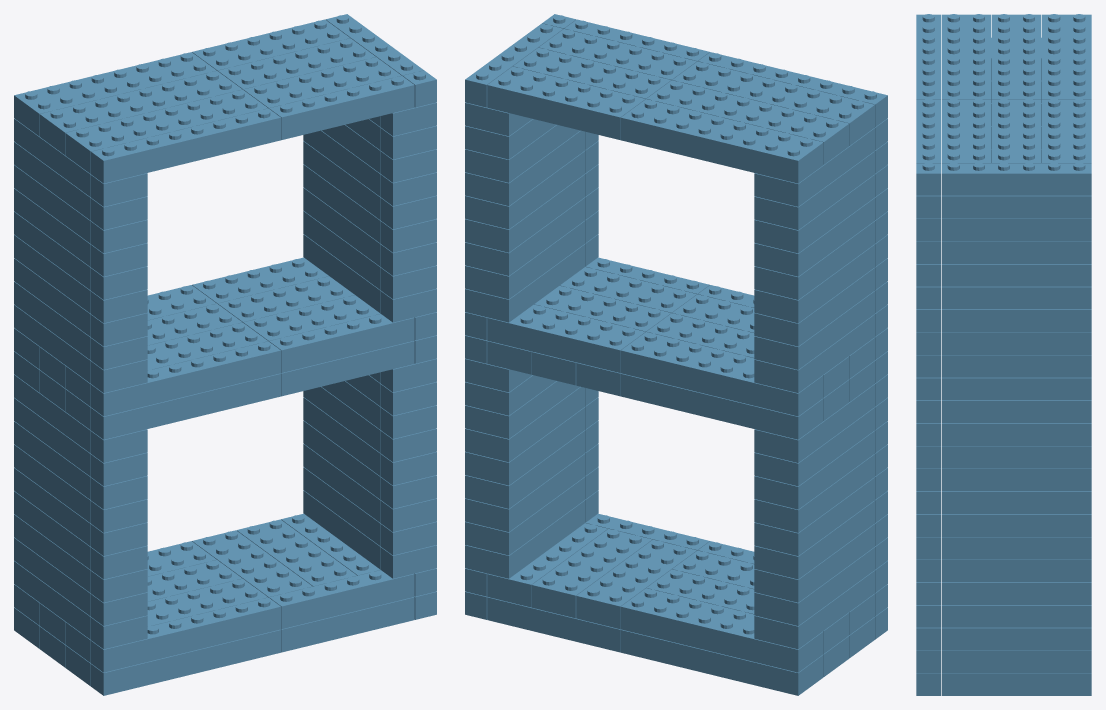
Rendered from brickmore__bookshelf-L3-C1__raw.glb.
The picture shows the model from 3 angles, left to right: view 1: azimuth 30°, elevation 25°; view 2: azimuth 150°, elevation 25°; view 3: azimuth 270°, elevation 25°; orthographic projection. The views are drawn at different scales.
Size of the model in its own units: 14.98 by 23.13 by 6.98.
